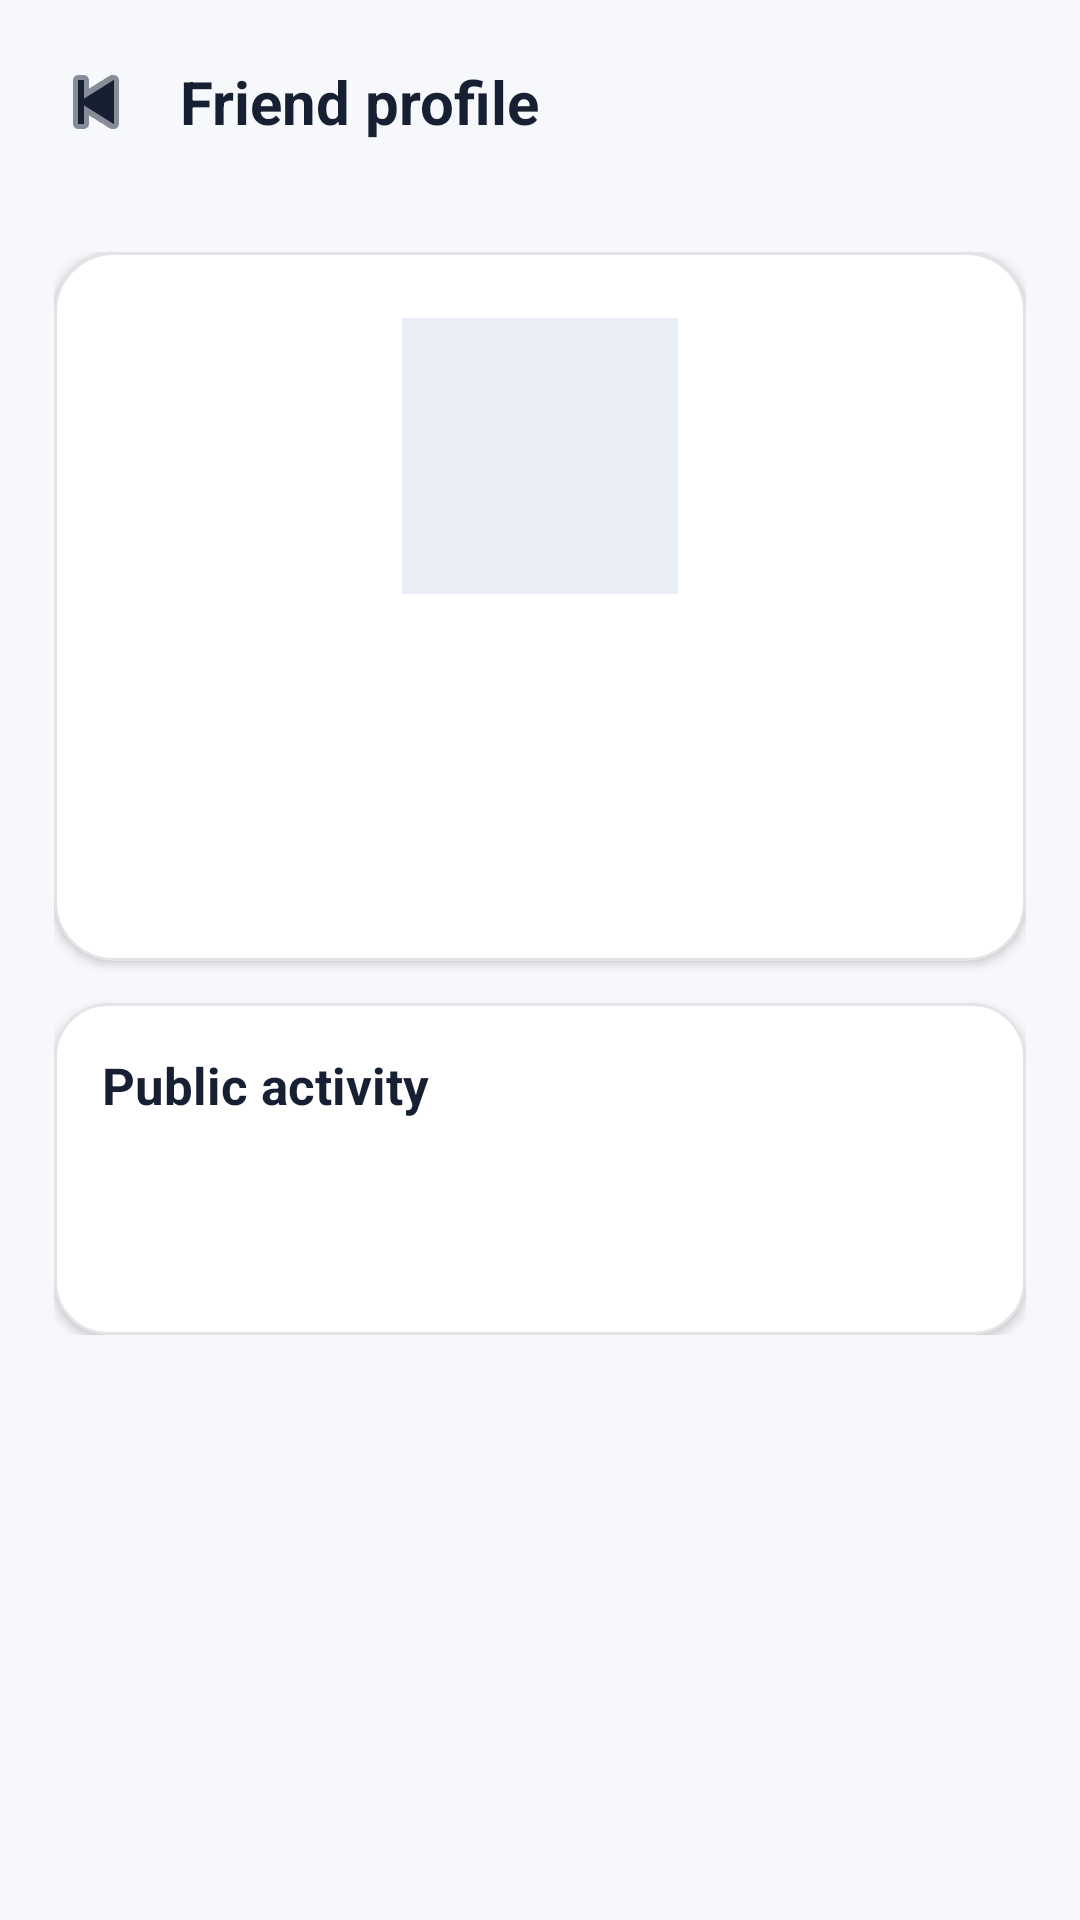

Named icons in this screenshot (1080w x 1920h) and their bounding boxes, box(x1, y1, x2, y2):
Back: box(73, 75, 119, 129)
